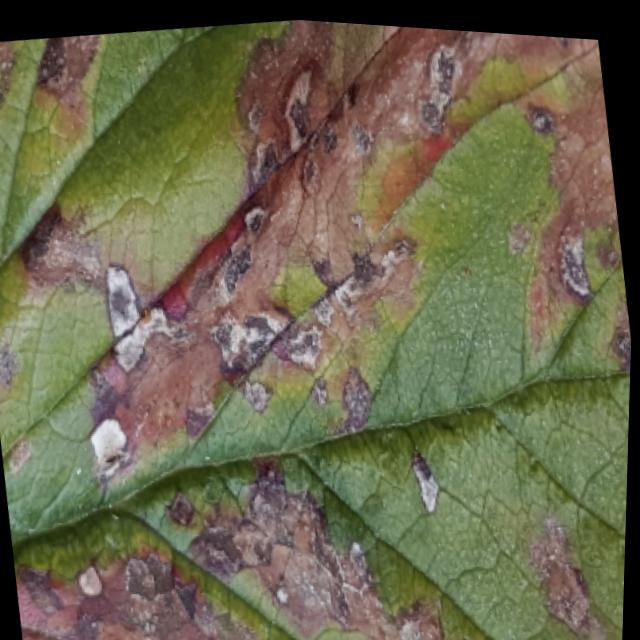Angular Leafspot: (0, 16, 633, 640)
